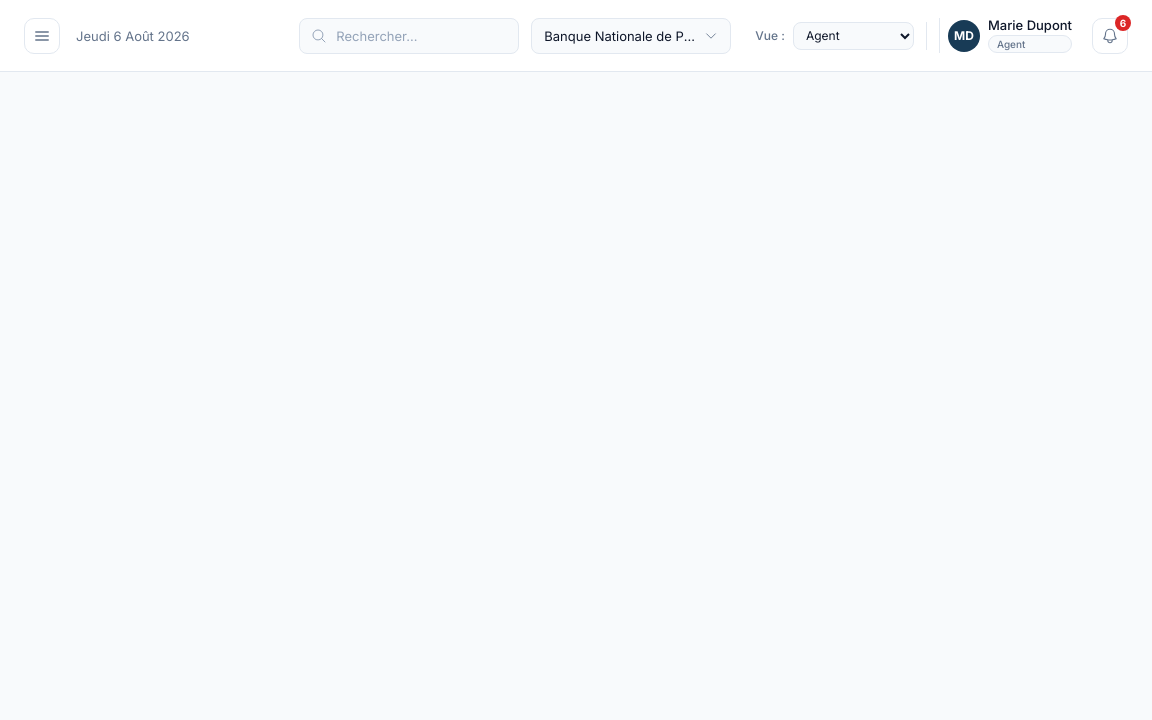
AppHeaderComponent › should toggle notification center when bell is clicked
Click the button with class "header__notif-btn" at (1110, 36), box [1092,18,1128,54]
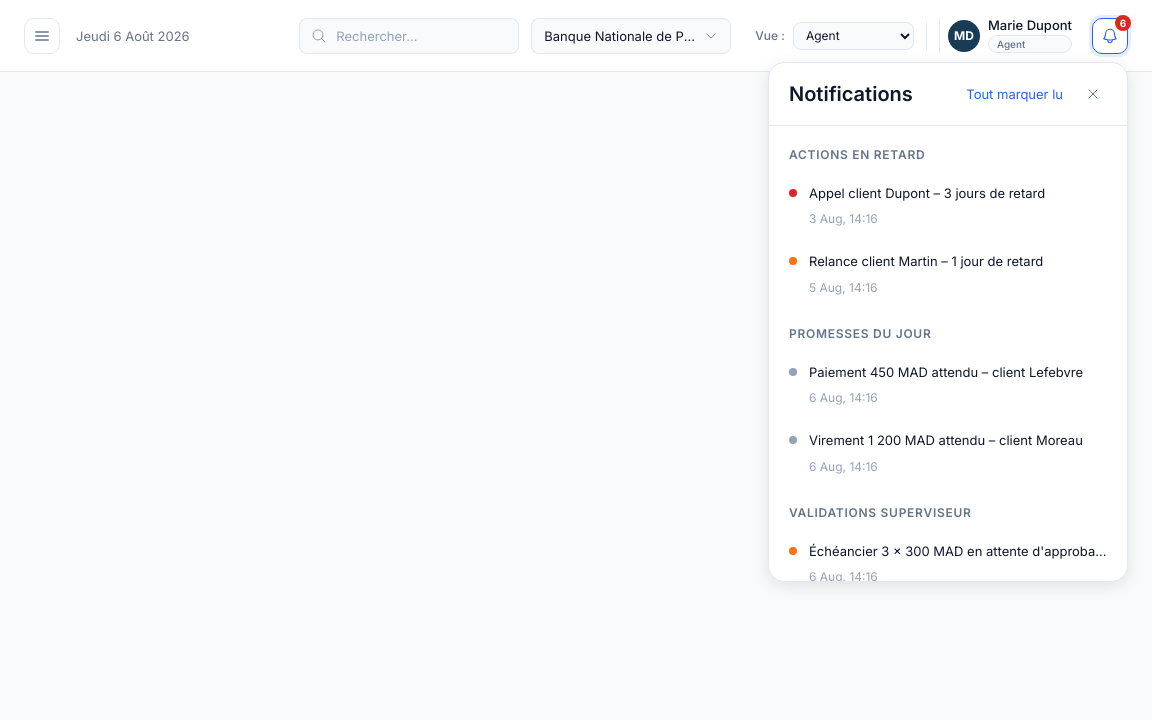
Expected: the element that starts with "Notifications" is shown, [768,62,1128,582]
